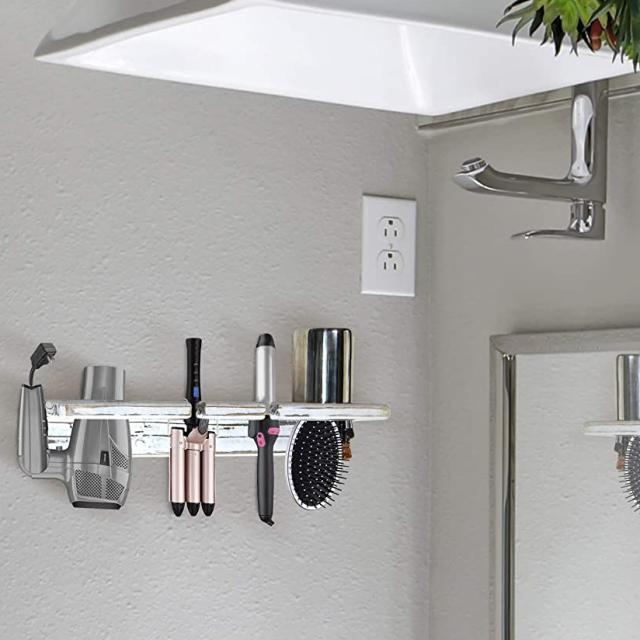dryer: (1, 344, 147, 525)
